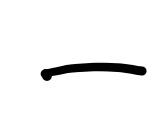minus: (41, 62, 147, 80)
